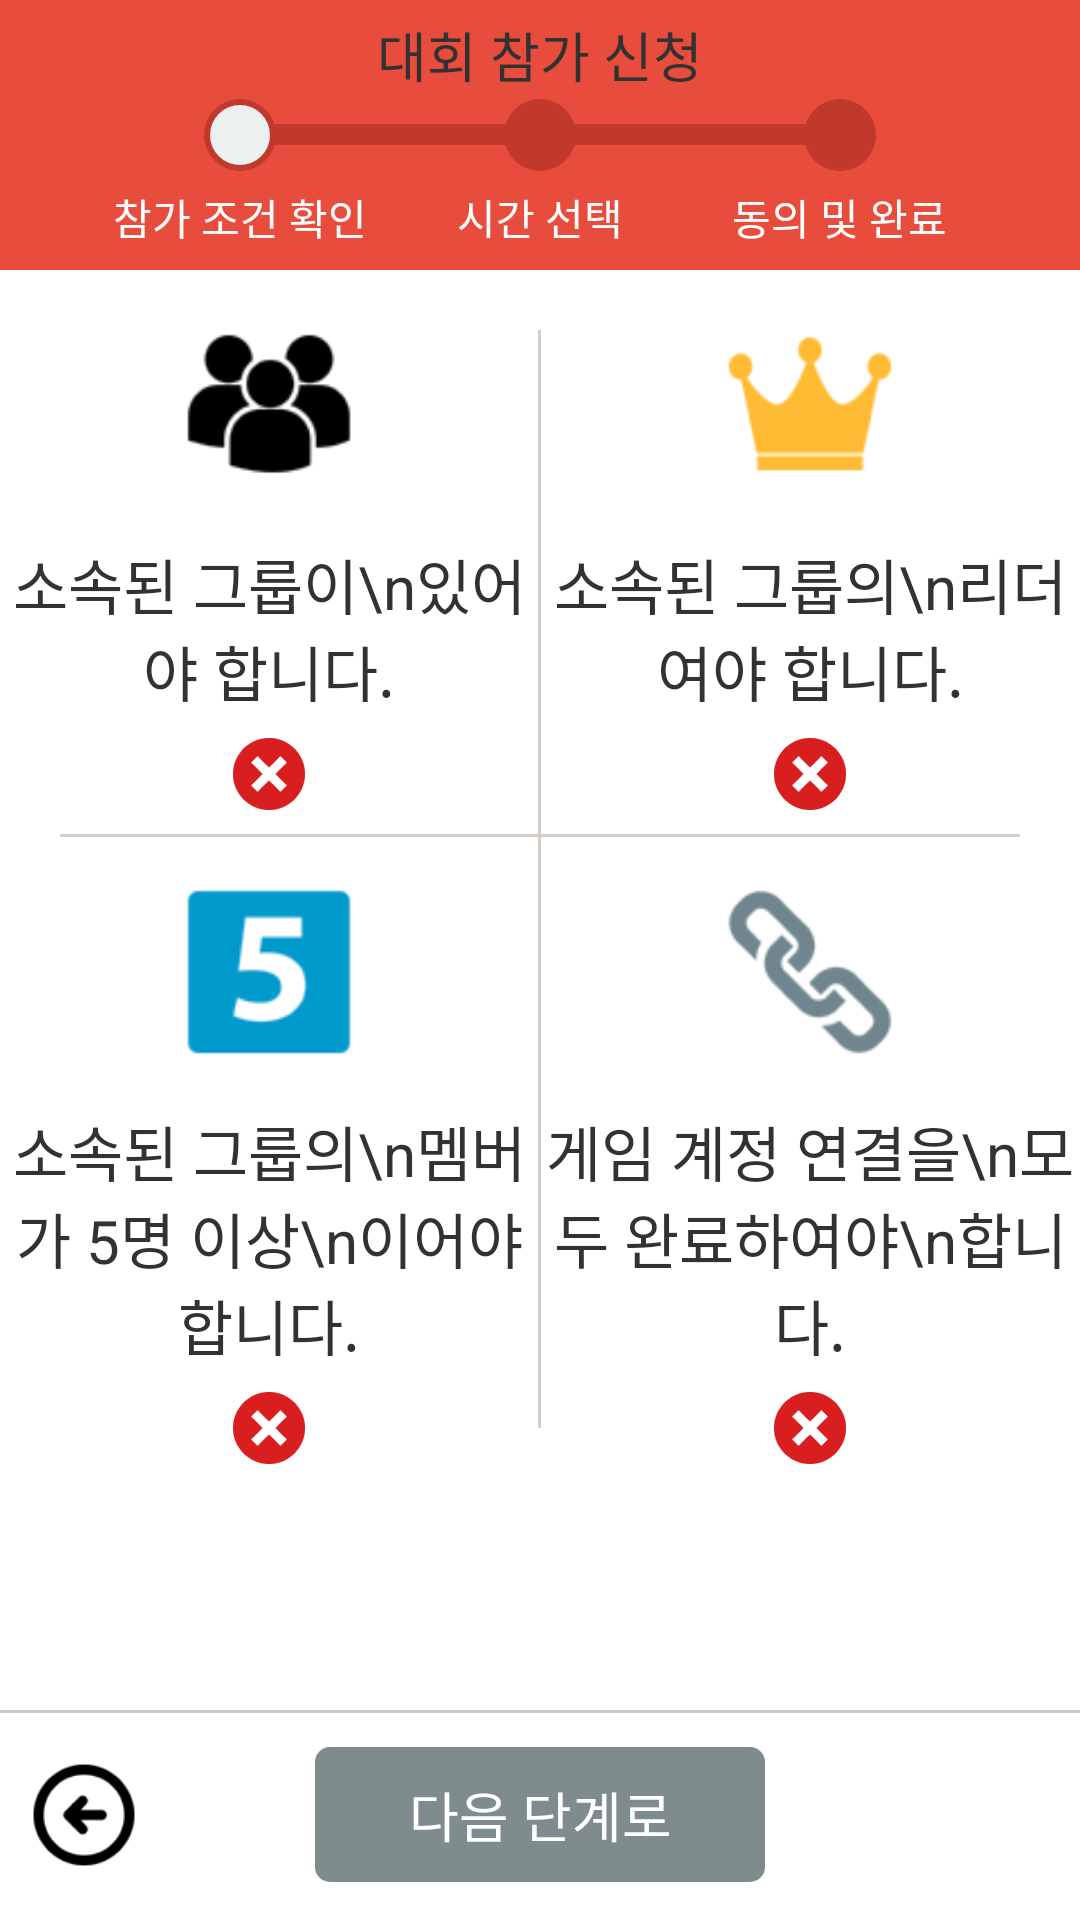

Point at icon controls on the screen. Image size 1080px×1920px, points as (x=x, y=y).
crown: (x=810, y=404)
link: (x=810, y=972)
number: (x=269, y=972)
